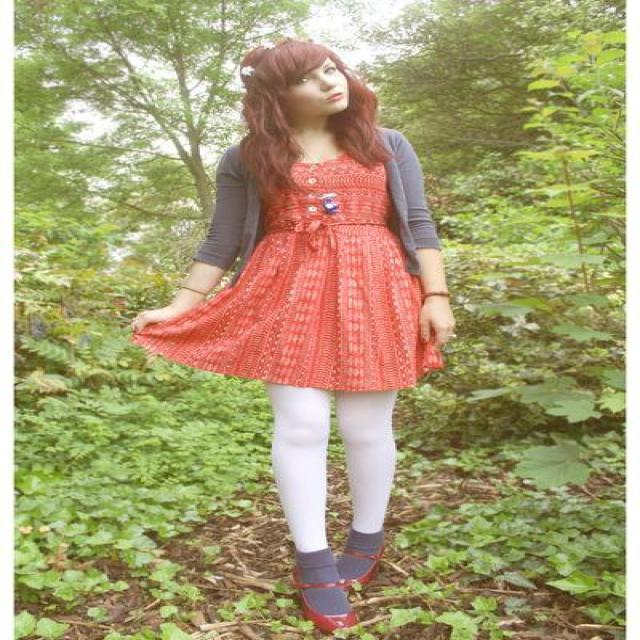bag: (405, 269, 443, 370)
dress: (128, 156, 440, 396)
jacket: (187, 127, 461, 268)
shoe: (302, 587, 353, 614)
